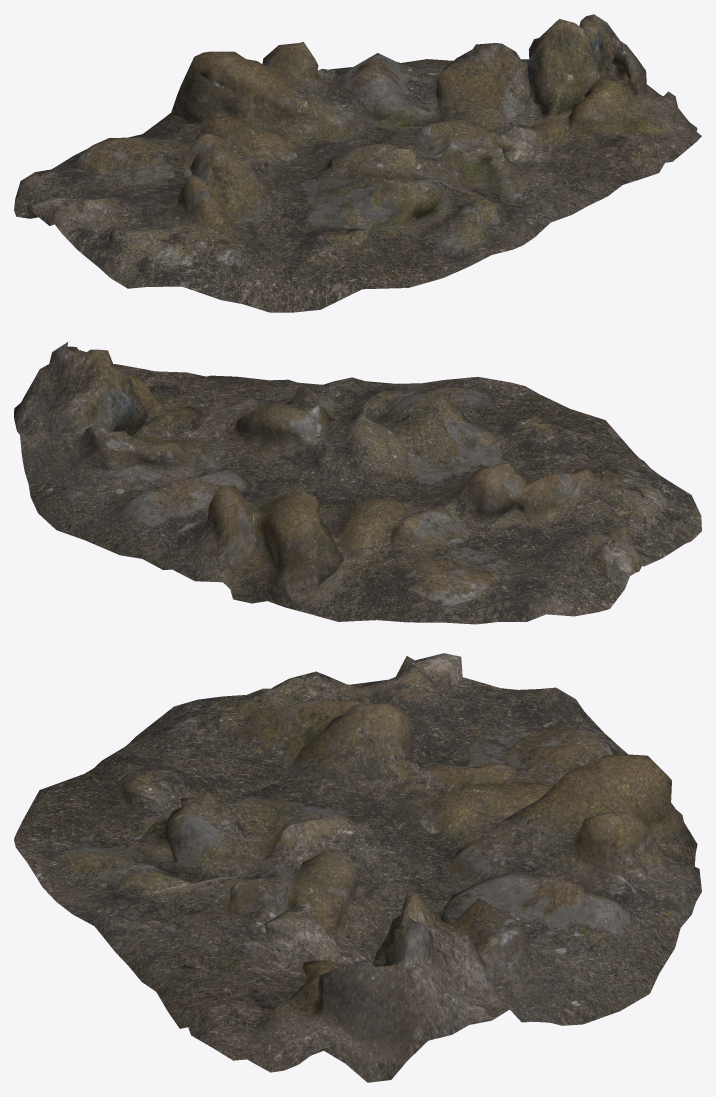
File: PX_Mossy_Rock_10_LOD4.fbx
3 views of the same model, one above another, from view 1: azimuth 30°, elevation 25°; view 2: azimuth 150°, elevation 25°; view 3: azimuth 270°, elevation 25° (orthographic). The views are drawn at different scales.
Visible parts, largest first — view 1: PX_Mossy_Rock_10_LOD4; view 2: PX_Mossy_Rock_10_LOD4; view 3: PX_Mossy_Rock_10_LOD4.
Boxes of the visible parts, x1=… form: PX_Mossy_Rock_10_LOD4: x1=14, y1=14, x2=701, y2=312; PX_Mossy_Rock_10_LOD4: x1=14, y1=342, x2=701, y2=624; PX_Mossy_Rock_10_LOD4: x1=14, y1=653, x2=701, y2=1082.
Bounding box in the file's own units: 236 × 39.92 × 171.
